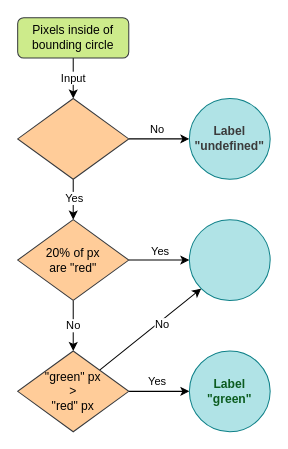
Image size: 288x449. Some labels were removed from this diagram. The shapes that lost their labels are listed below. From the top down, each one's centre as x and y in pixels, then its label:
(x=73, y=138): Mean brightness in range
(x=229, y=259): Label "red"
